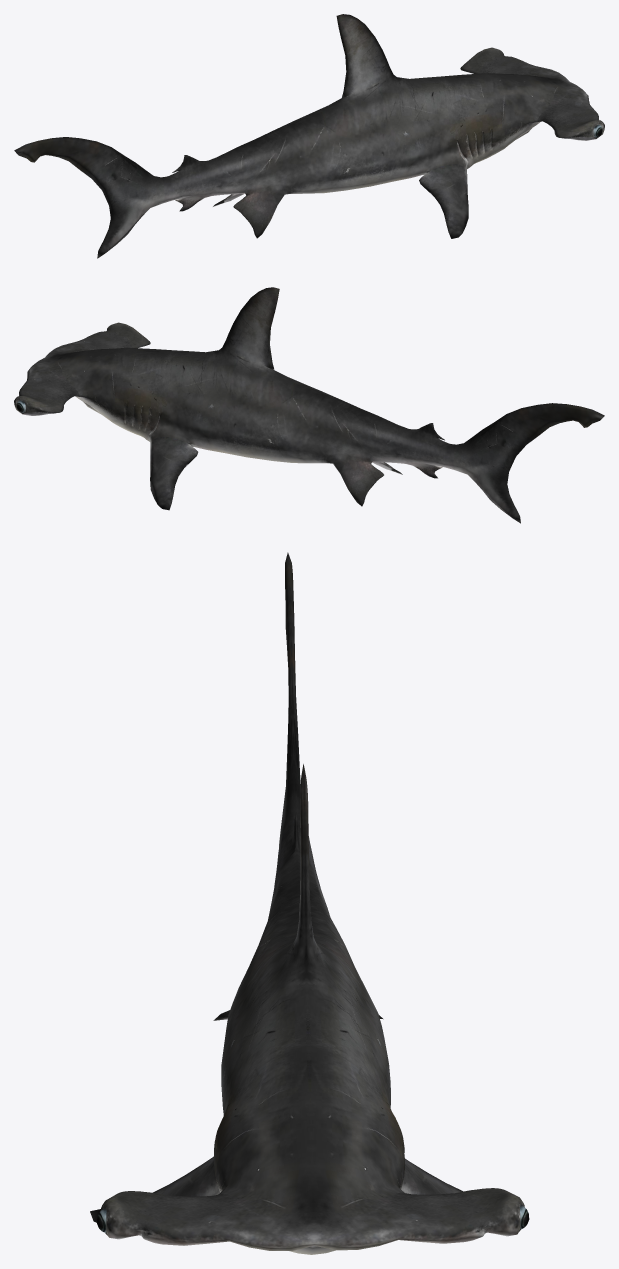
Rendered from hammerhead.glb.
3 views of the same model, one above another, from view 1: azimuth 30°, elevation 25°; view 2: azimuth 150°, elevation 25°; view 3: azimuth 270°, elevation 25° (orthographic). The views are drawn at different scales.
Visible parts, largest first — view 1: baked_Object_7; view 2: baked_Object_7; view 3: baked_Object_7.
Boxes of the visible parts, <box> form: baked_Object_7: <box>14,14,604,258</box>; baked_Object_7: <box>14,287,604,523</box>; baked_Object_7: <box>90,552,529,1254</box>.
Size of the model in its own units: 1 by 0.3367 by 0.3413.
Materials: 1 (1 with a texture image).
